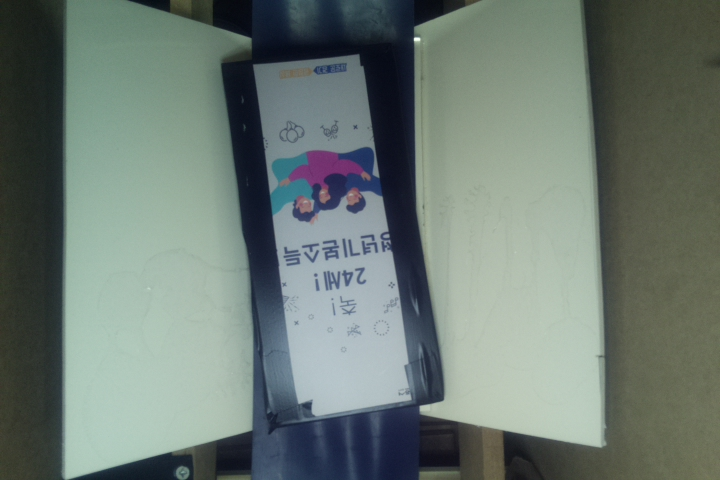book: (213, 49, 445, 431)
